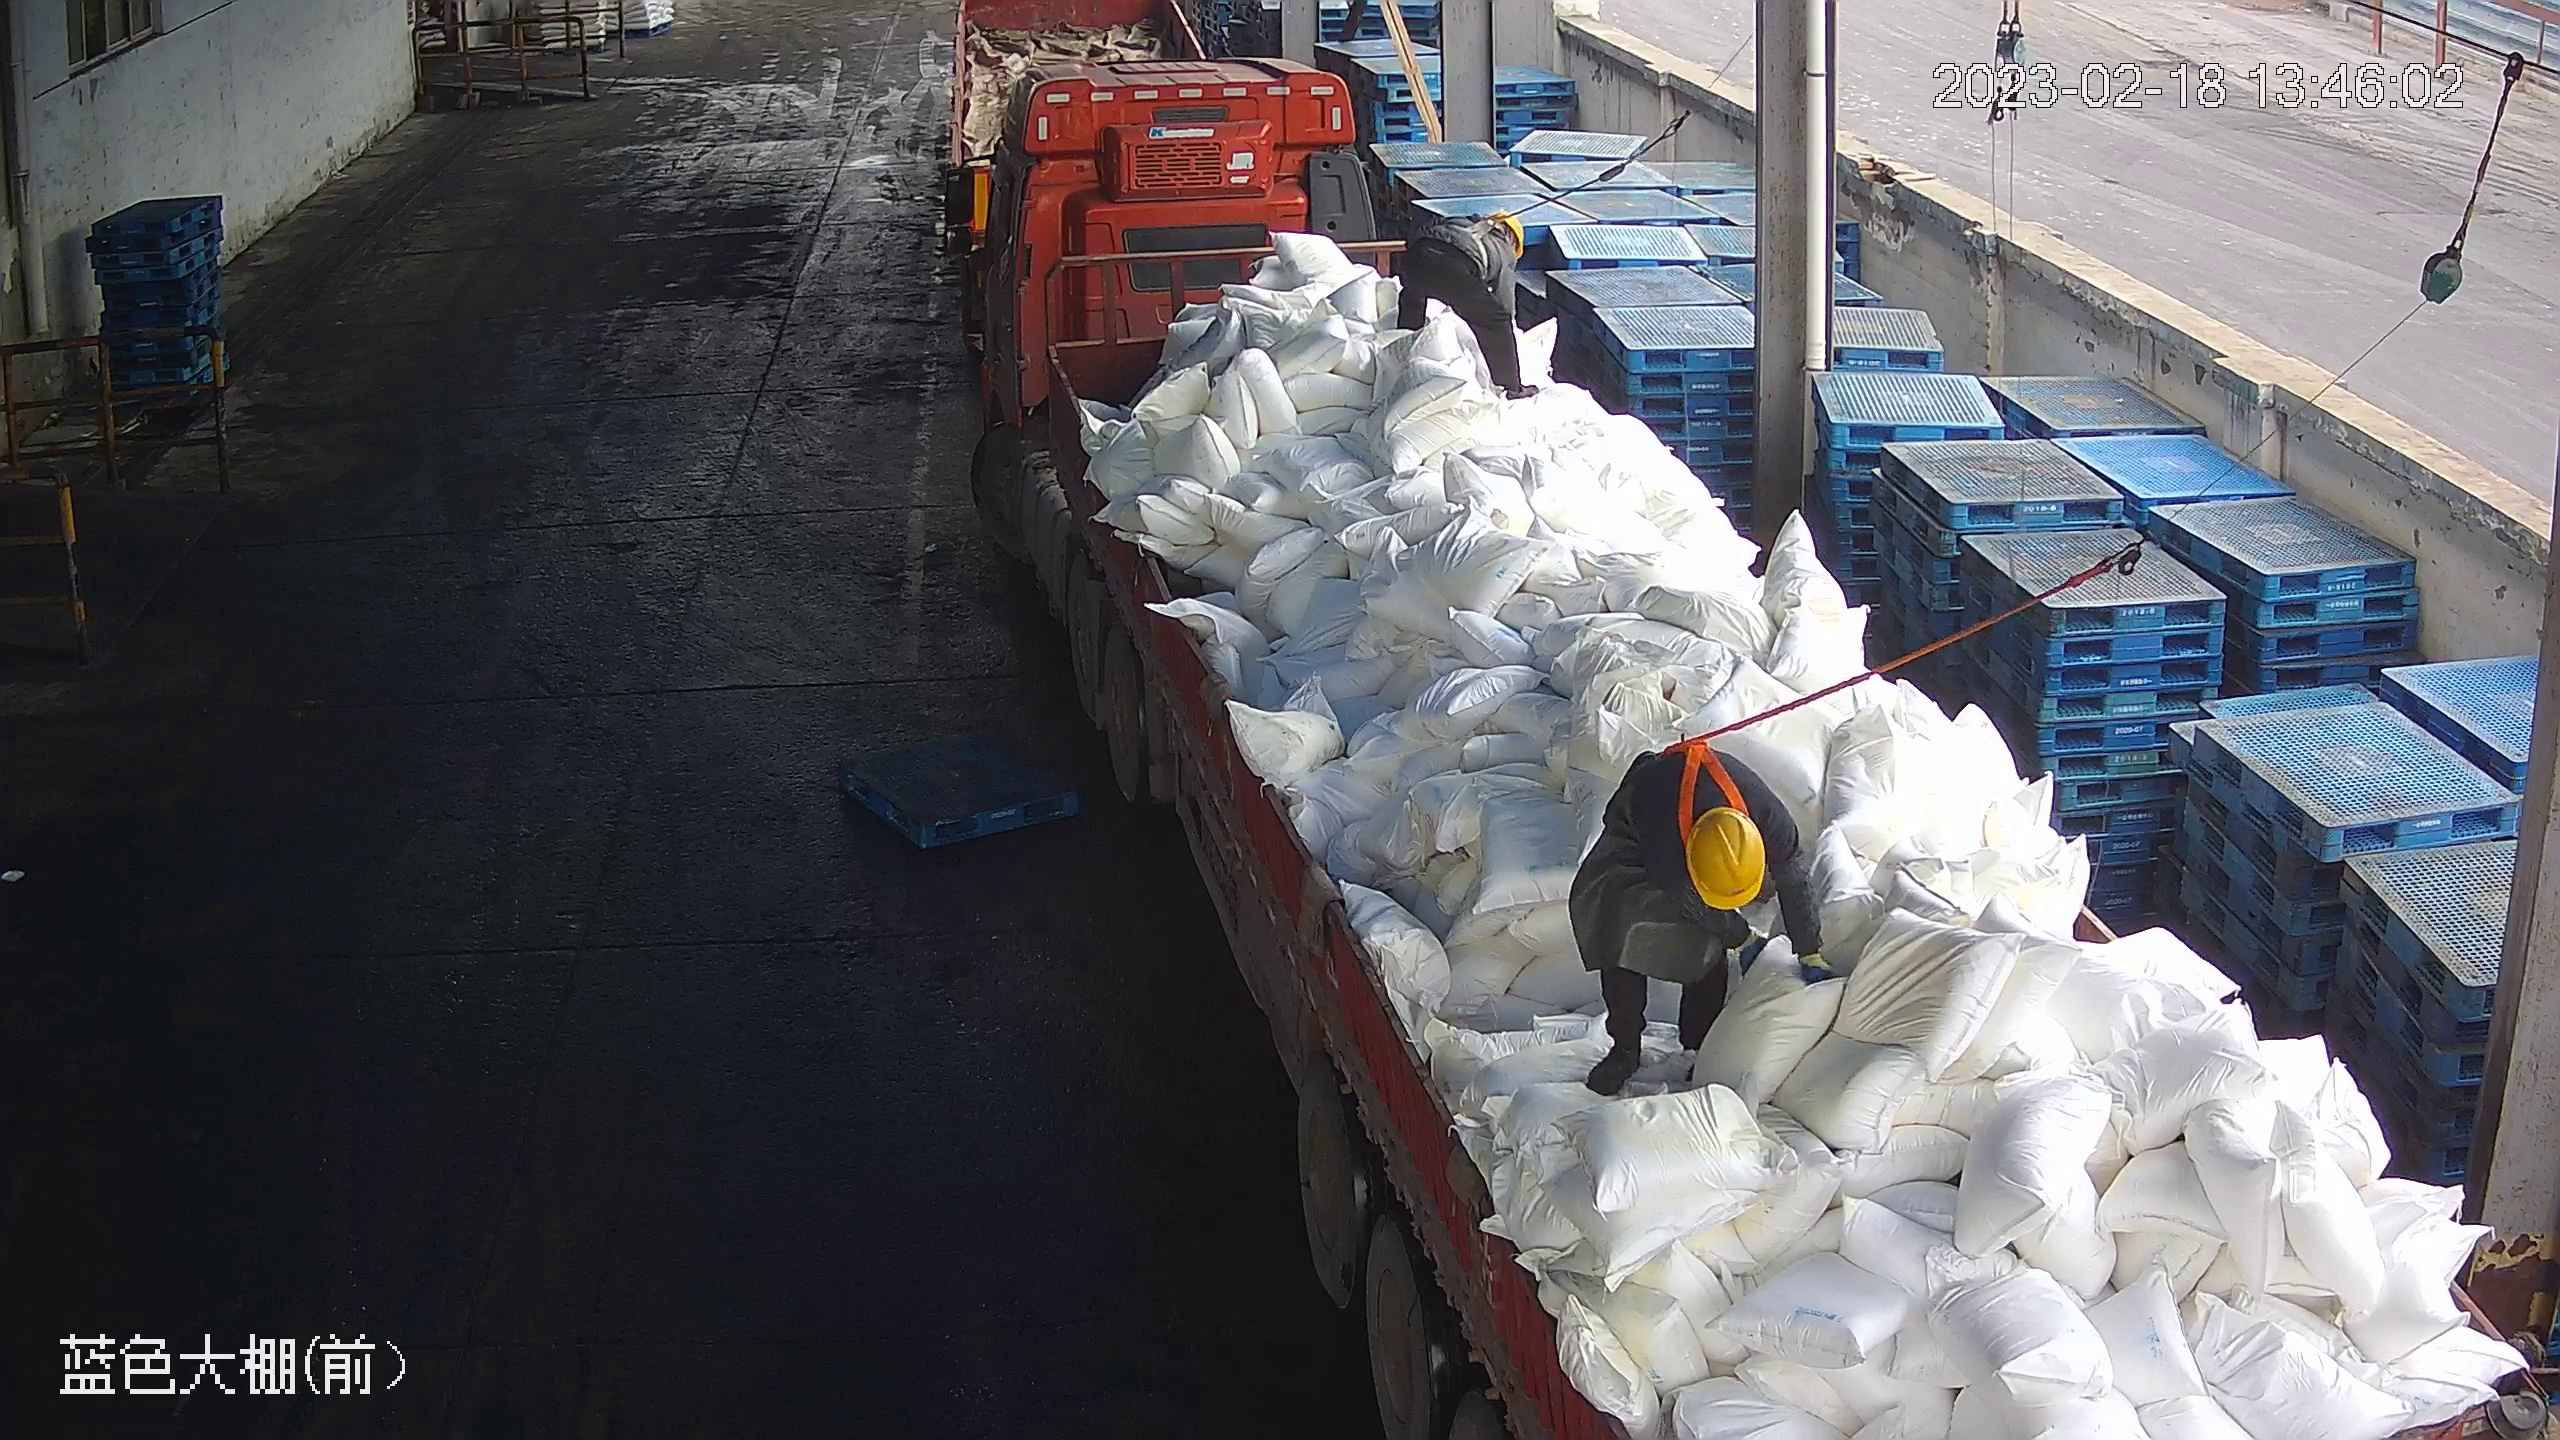belt: (1653, 718, 1756, 839), (1451, 202, 1522, 255)
head: (1617, 752, 1800, 923), (1443, 209, 1527, 271)
helmet: (1680, 804, 1770, 910), (1484, 210, 1525, 264)
people: (1562, 740, 1834, 1103), (1379, 209, 1539, 399)
truck: (978, 58, 2560, 1440)
